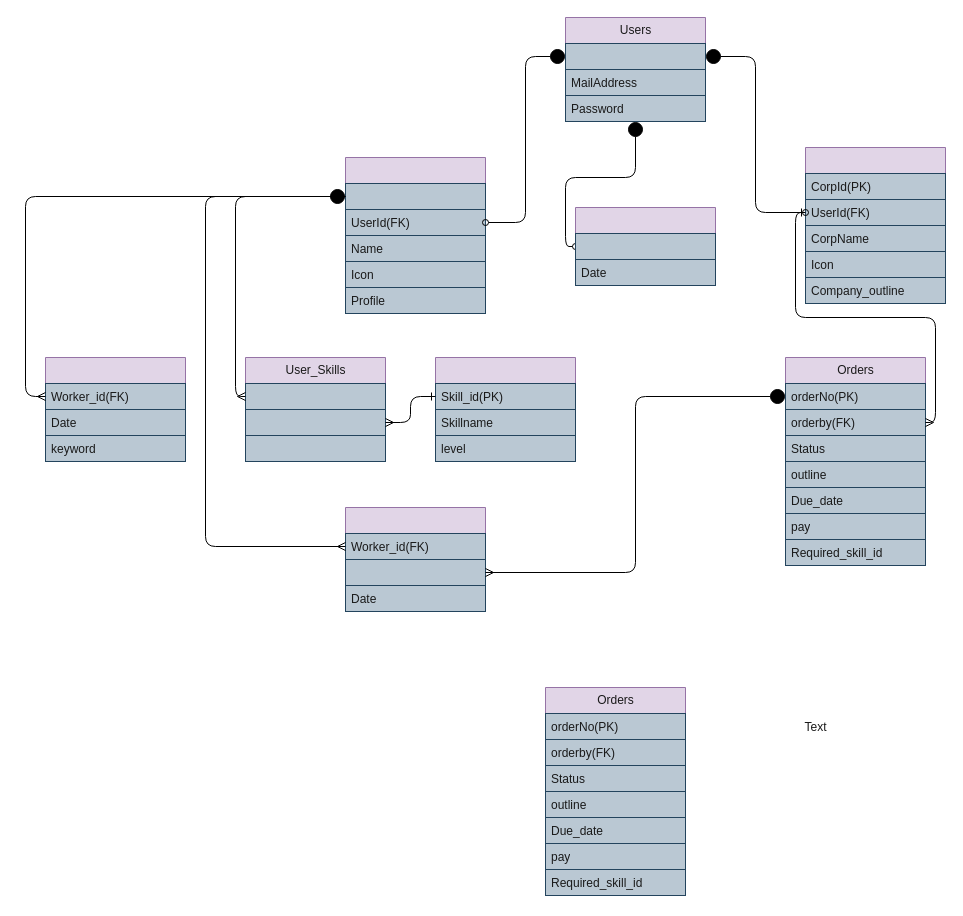
Image size: 963x916. Some labels were removed from this diagram. The box of each missing label's shape, as (x1, y1, x2, y2) in pixels:
Companies: (804, 146, 946, 304)
Favs: (344, 506, 486, 612)
Login_histories: (574, 206, 716, 286)
OrderNO(FK): (344, 558, 486, 586)
Search_histories: (44, 356, 186, 462)
Skill_id(FK): (244, 408, 386, 436)
Skill_Level: (244, 434, 386, 462)
Skill_master: (434, 356, 576, 462)
User_id(FK): (574, 232, 716, 260)
UserId(PK): (564, 42, 706, 70)
WorkerId: (244, 382, 386, 410)
WorkerId(PK): (344, 182, 486, 210)
Workers: (344, 156, 486, 314)
